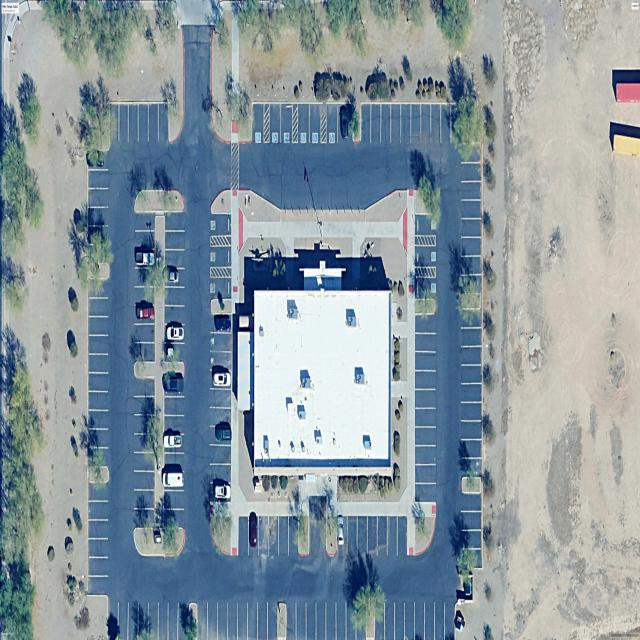Home: (237, 289, 392, 476)
